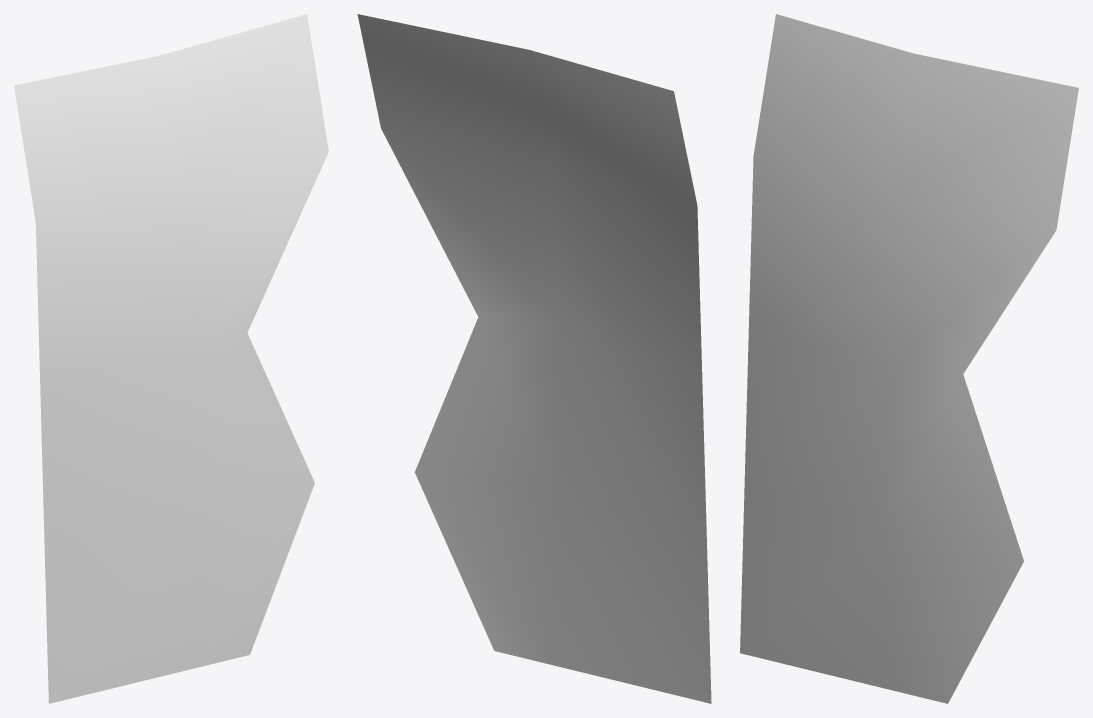
The model's file is sm_env_vinestandard.fbx.
The picture shows the model from 3 angles, left to right: view 1: azimuth 30°, elevation 25°; view 2: azimuth 150°, elevation 25°; view 3: azimuth 330°, elevation 25°; orthographic projection. The views are drawn at different scales.
Visible parts, largest first — view 1: sm_env_vinestandard; view 2: sm_env_vinestandard; view 3: sm_env_vinestandard.
Boxes of the visible parts, x1=… form: sm_env_vinestandard: x1=14, y1=14, x2=328, y2=703; sm_env_vinestandard: x1=357, y1=14, x2=711, y2=703; sm_env_vinestandard: x1=740, y1=14, x2=1078, y2=703.
Size of the model in its own units: 78.07 by 151 by 18.8.
